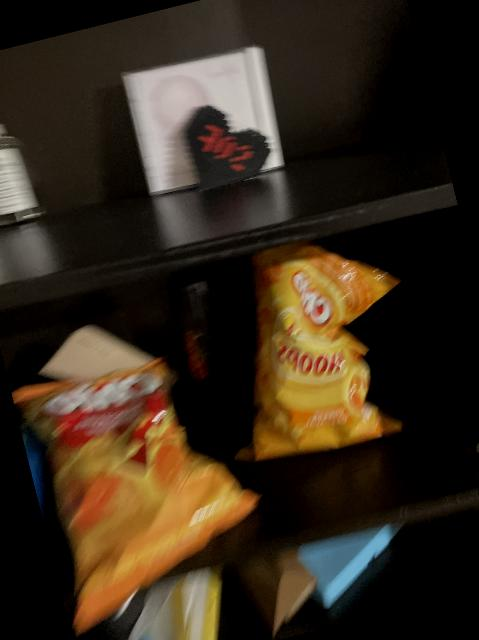Chio Cascaval 125g: (13, 330, 280, 637)
Chio Hula Hoops Cheese 70g: (195, 225, 437, 472)
Lays Beef Grilled Ribs 125g: (434, 316, 479, 483)
